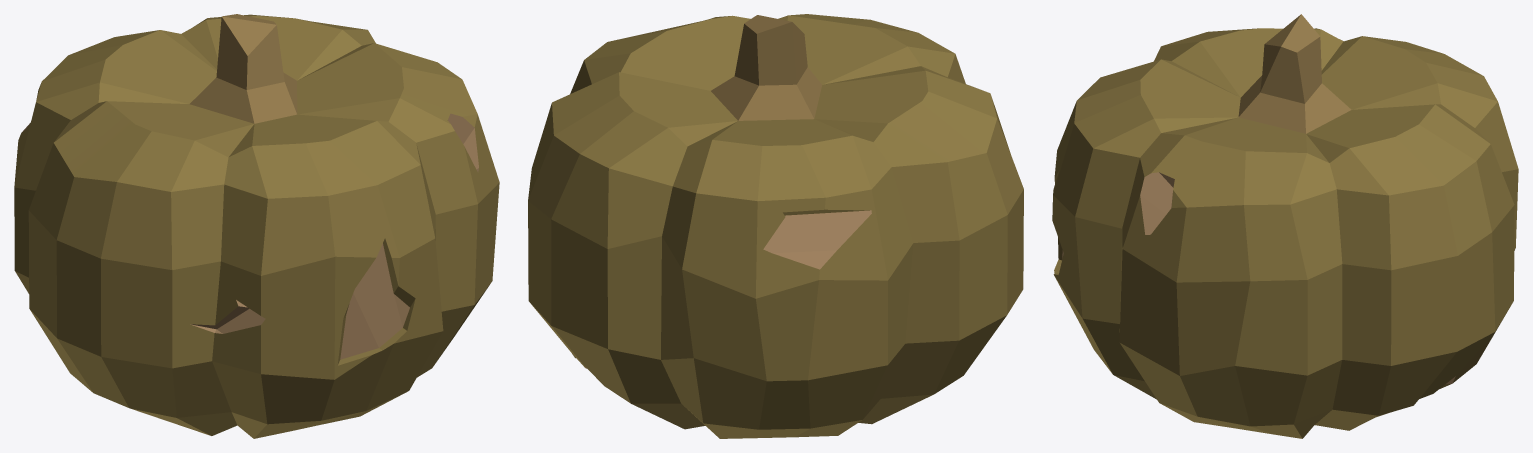
File: Pumpkin_Rotten.fbx
The picture shows the model from 3 angles, left to right: view 1: azimuth 30°, elevation 25°; view 2: azimuth 150°, elevation 25°; view 3: azimuth 270°, elevation 25°; orthographic projection. The views are drawn at different scales.
Parts seen in each view (by area): view 1: SM_Pumpkin_Rotten; view 2: SM_Pumpkin_Rotten; view 3: SM_Pumpkin_Rotten.
Part boxes in pixels (x1,y1,x2,y2): SM_Pumpkin_Rotten: (14,14,499,438); SM_Pumpkin_Rotten: (528,14,1023,438); SM_Pumpkin_Rotten: (1052,14,1518,438).
Bounding box in the file's own units: 27.72 × 23.66 × 27.26.
1 material, 1 textured.
